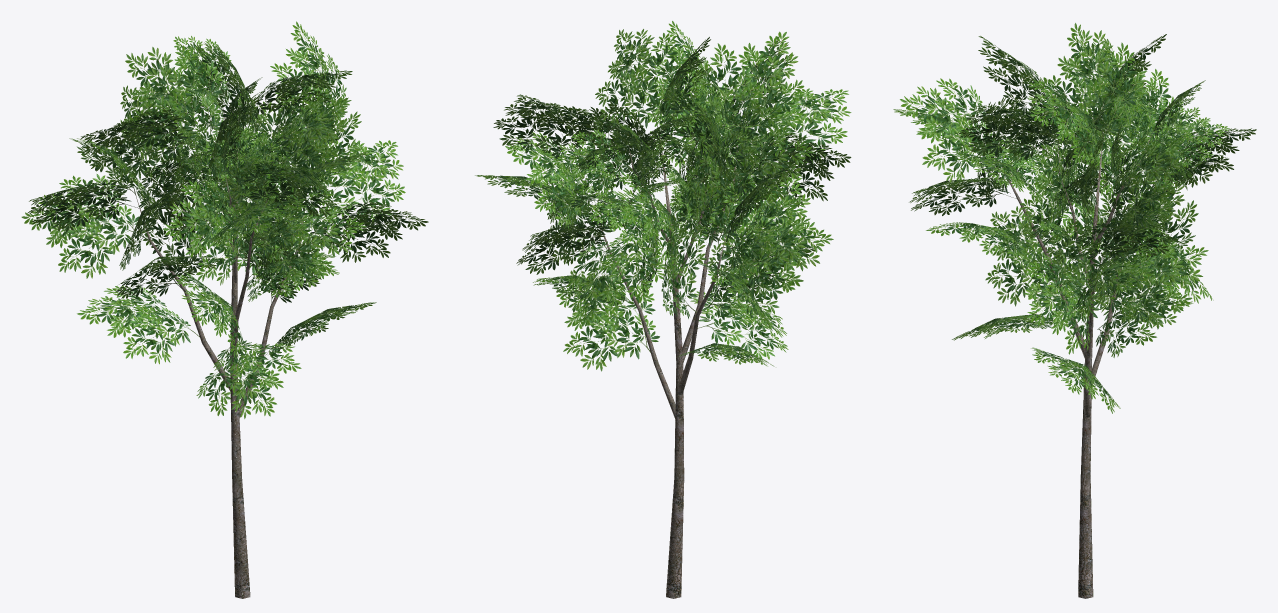
File: ThinTree.fbx
The picture shows the model from 3 angles, left to right: view 1: azimuth 30°, elevation 25°; view 2: azimuth 150°, elevation 25°; view 3: azimuth 270°, elevation 25°; orthographic projection.
Parts seen in each view (by area): view 1: ThinTree; view 2: ThinTree; view 3: ThinTree.
Part boxes in pixels (left/top/right/bottom): ThinTree: left=21, top=21, right=428, bottom=598; ThinTree: left=475, top=21, right=851, bottom=598; ThinTree: left=893, top=23, right=1256, bottom=598.
Bounding box in the file's own units: 18.02 × 25.84 × 15.68.
